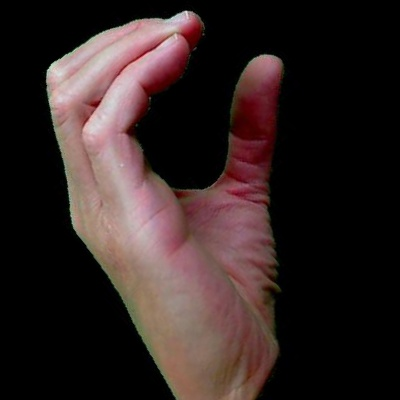c: (1, 1, 398, 364)
